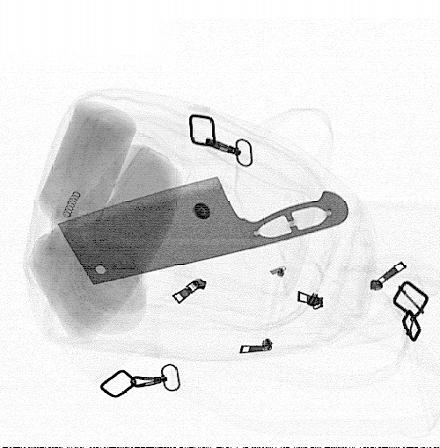Knife: (57, 175, 349, 286)
